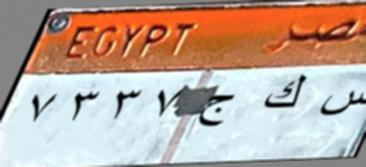3: (104, 86, 144, 126), (68, 84, 102, 121)
7: (147, 85, 189, 119), (27, 86, 61, 126)
jeem: (194, 89, 237, 132)
kaaf: (256, 68, 311, 117)
seen: (318, 84, 366, 118)
